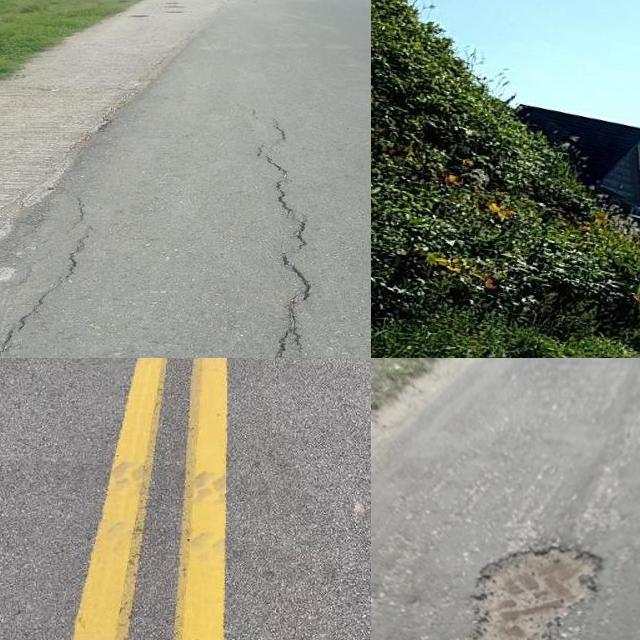Lubang: (469, 548, 600, 640)
Memanjang: (251, 108, 323, 358), (0, 179, 94, 358)
